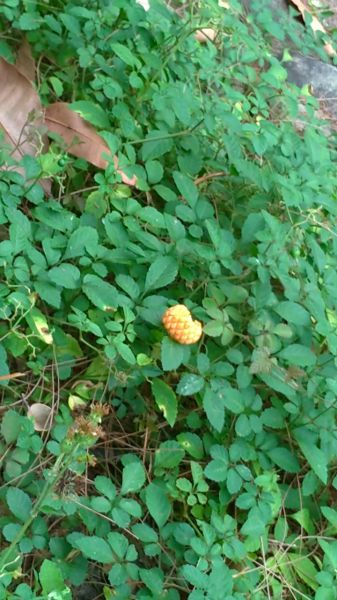eggs: (158, 299, 206, 350)
